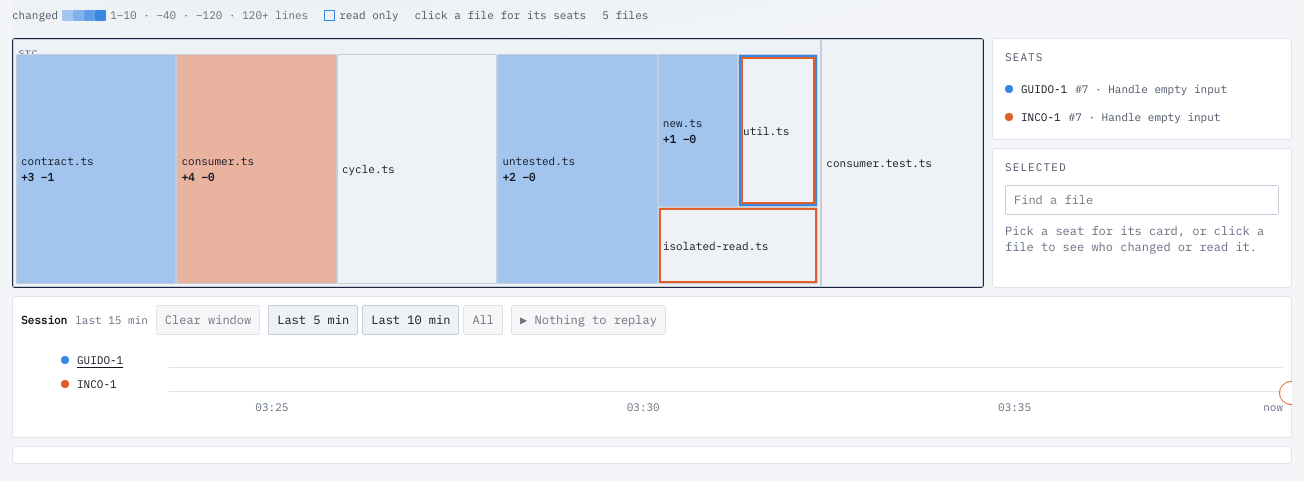
keeps branch-only files and recent reads visible and searchable
Type "new.ts" into the search field labelled "Find a file" at {"x": 1142, "y": 200}, box [1005,185,1279,215]
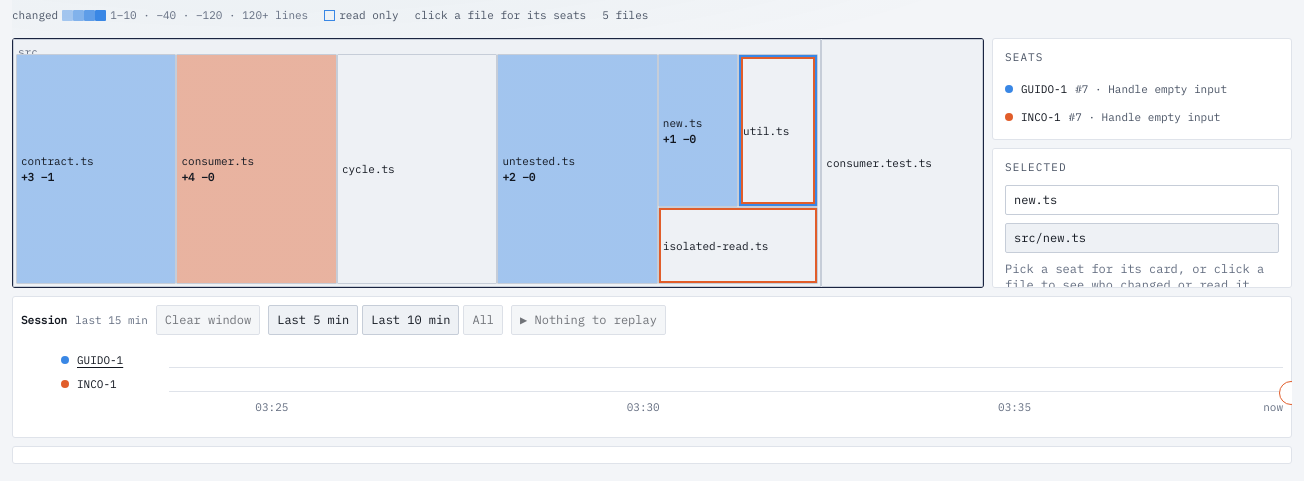
Click the button "src/new.ts" at {"x": 1050, "y": 238}, box [1005,223,1279,253]
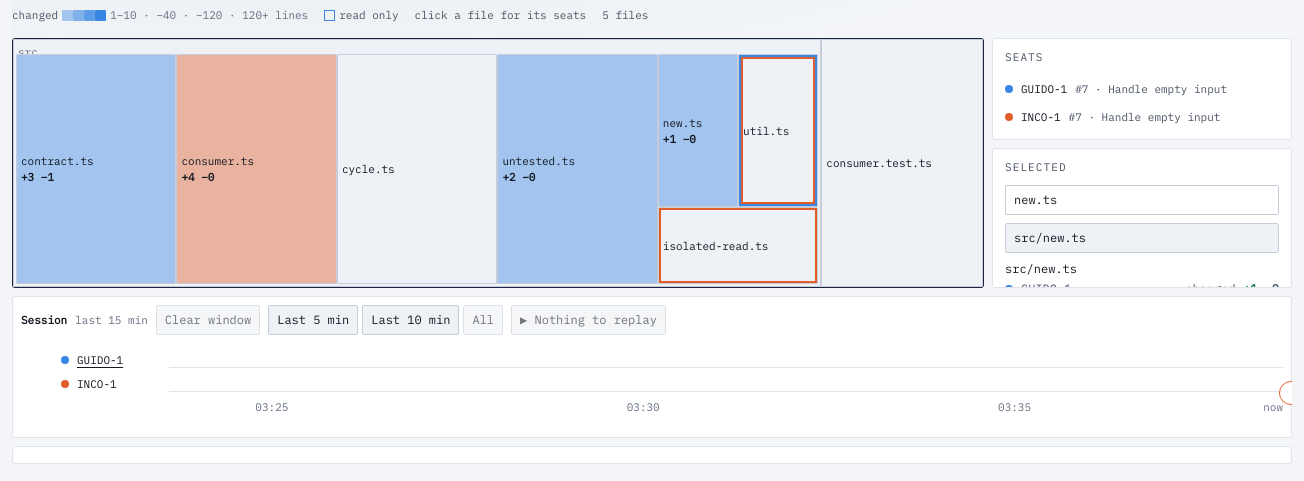
Now the heading "src/new.ts" is shown, box [1005,261,1077,276]
